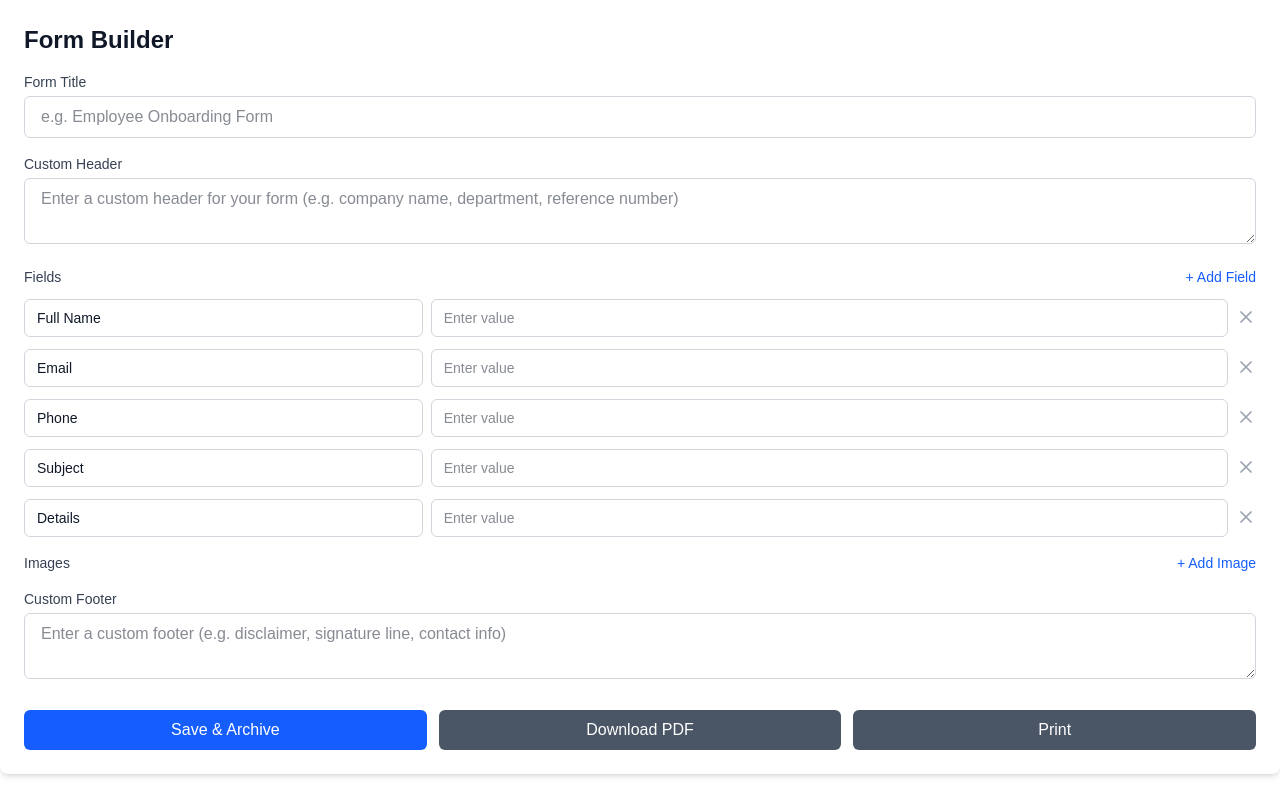
Test: FormBuilder › removes a field when clicking remove button
Expected: the number of fields with placeholder "Field label" is 5, [24,299,423,337]; [24,349,423,387]; [24,399,423,437]; [24,449,423,487]; [24,499,423,537]
Step 1. Click the button named "Remove field" → (1246,317), box [1236,307,1256,327]
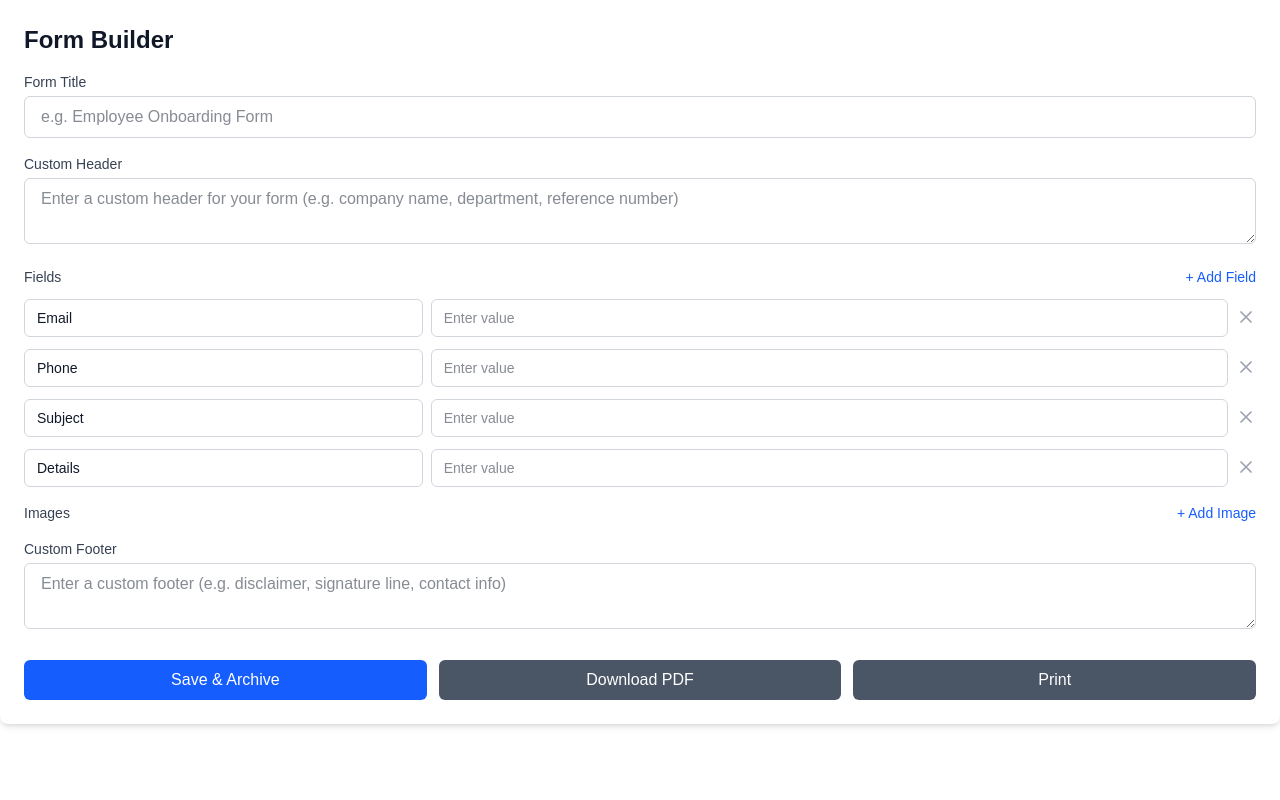
Expected: the number of fields with placeholder "Field label" is 4, [24,299,423,337]; [24,349,423,387]; [24,399,423,437]; [24,449,423,487]
